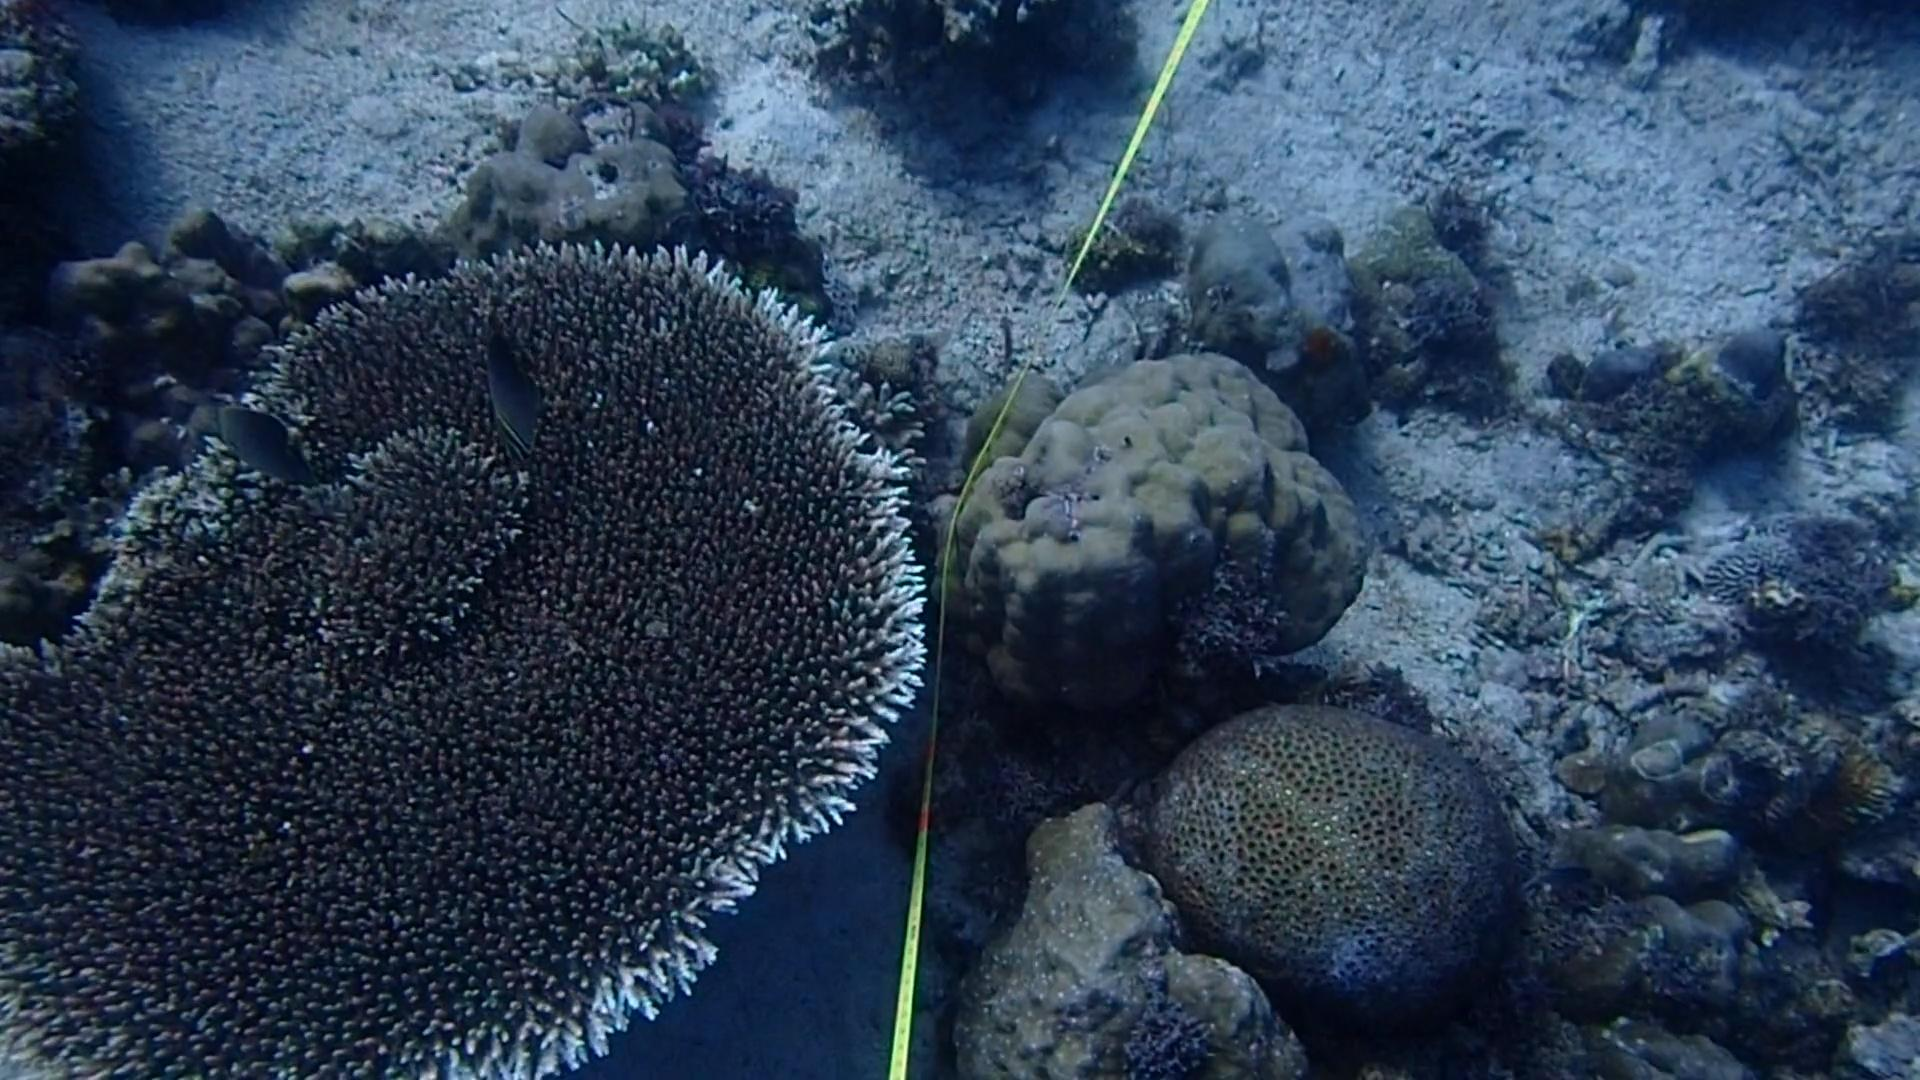Dark Blue Dory: (455, 311, 567, 476), (200, 388, 324, 487)
Light Fish: (1510, 851, 1601, 909)
